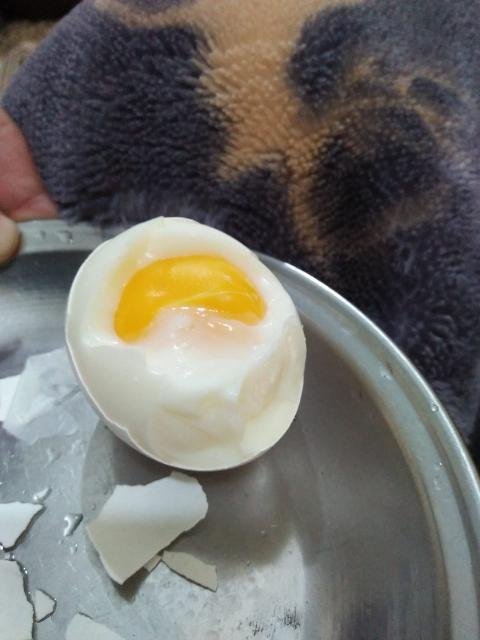Roto: (65, 217, 307, 471)
